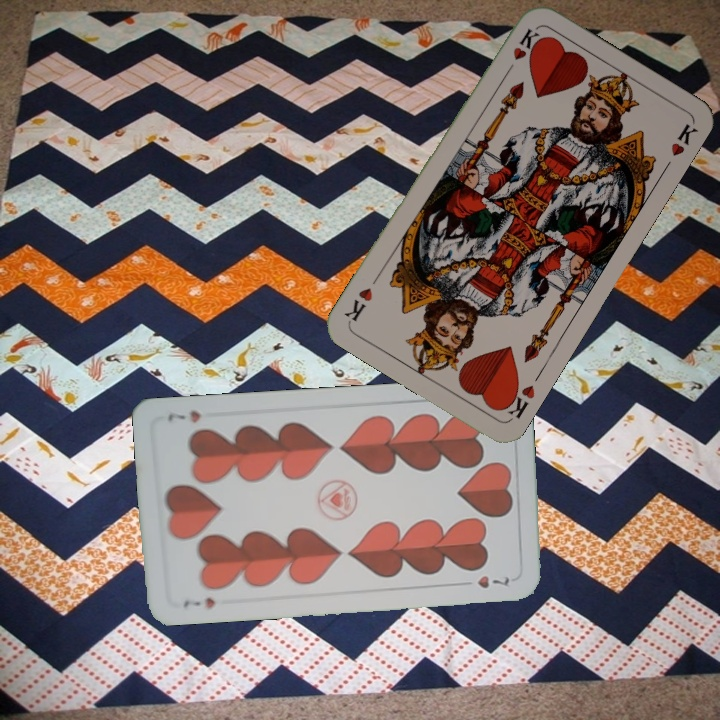H7: (179, 593, 218, 611)
HK: (501, 24, 542, 78), (497, 378, 538, 421)
